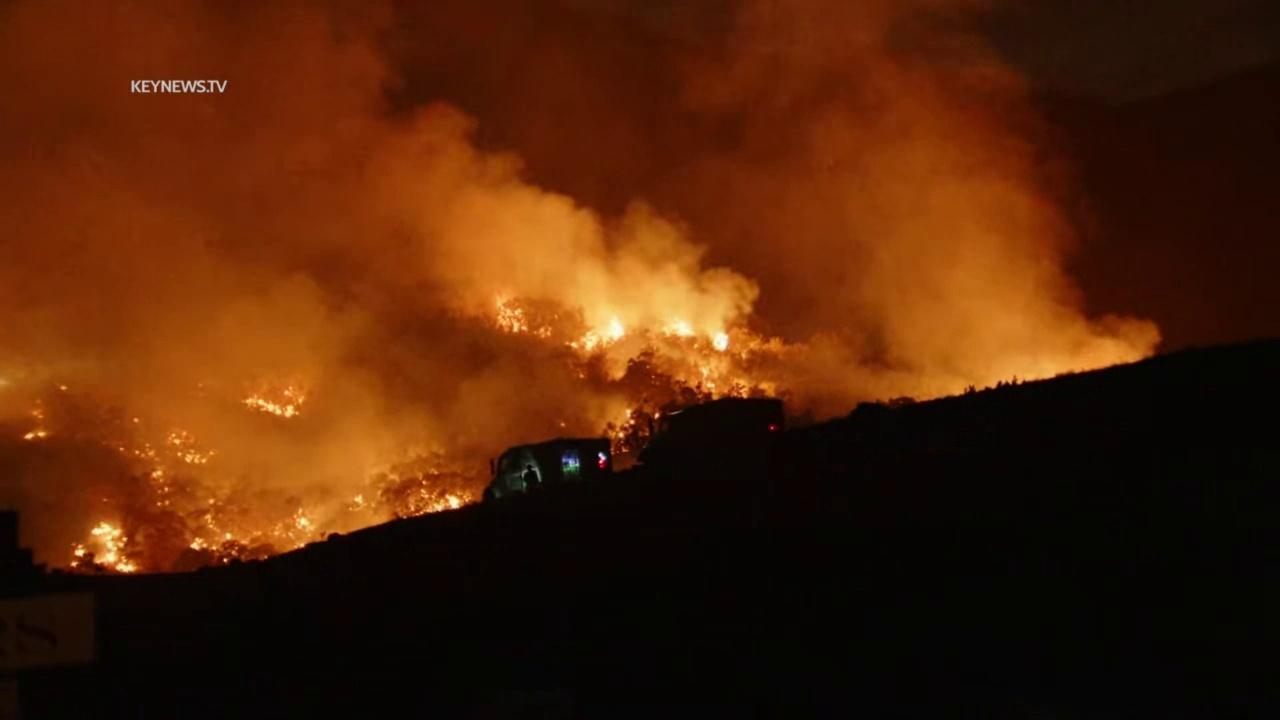fire: (67, 519, 141, 577), (238, 386, 314, 424), (564, 313, 627, 353), (406, 480, 474, 517), (271, 507, 329, 550), (492, 297, 529, 335), (658, 318, 697, 338), (175, 449, 215, 465), (189, 537, 218, 554), (709, 332, 732, 353), (699, 365, 717, 390), (203, 512, 221, 532), (167, 429, 187, 446), (23, 429, 49, 441), (624, 409, 638, 428), (150, 468, 164, 482), (353, 492, 366, 505), (651, 410, 661, 422), (617, 430, 626, 441), (225, 532, 233, 542), (222, 556, 230, 565)
smoke: (0, 0, 1280, 584)
